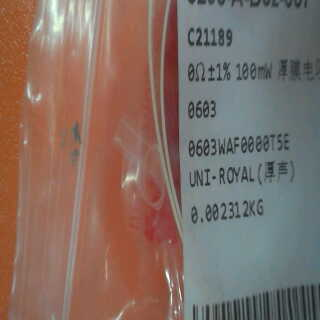0R: (181, 59, 234, 119)
